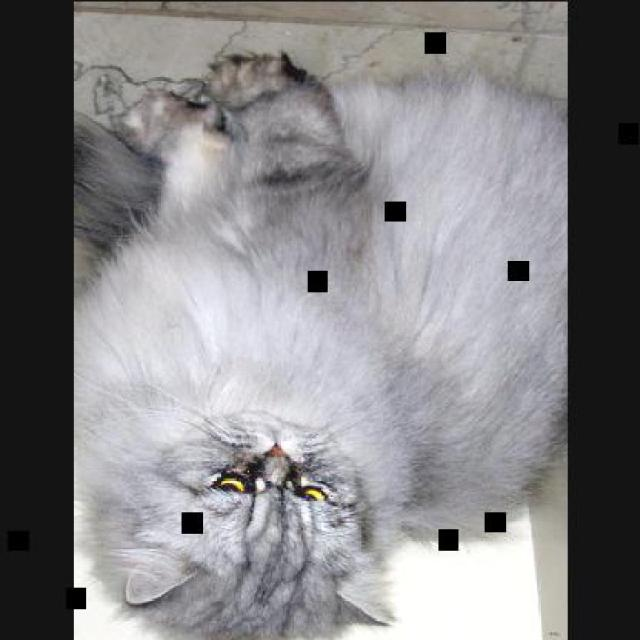unauthorized: (72, 47, 566, 638)
